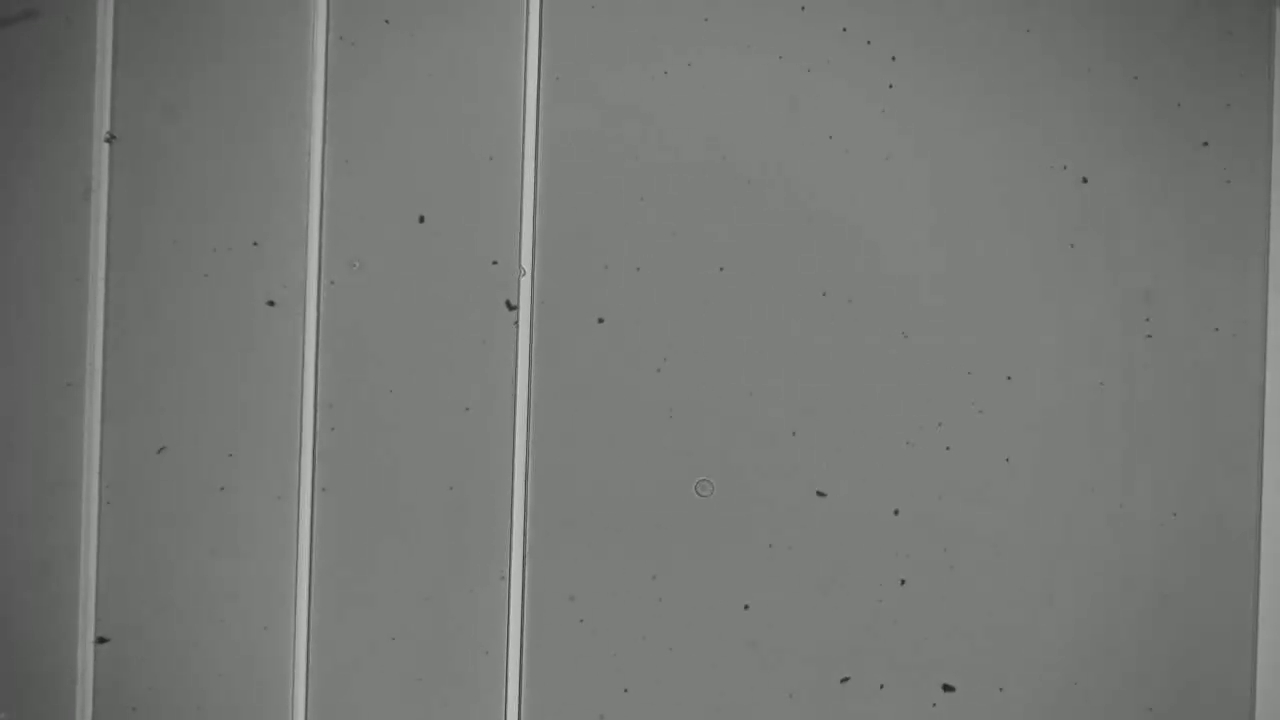stains_enbedded: (91, 123, 122, 154)
